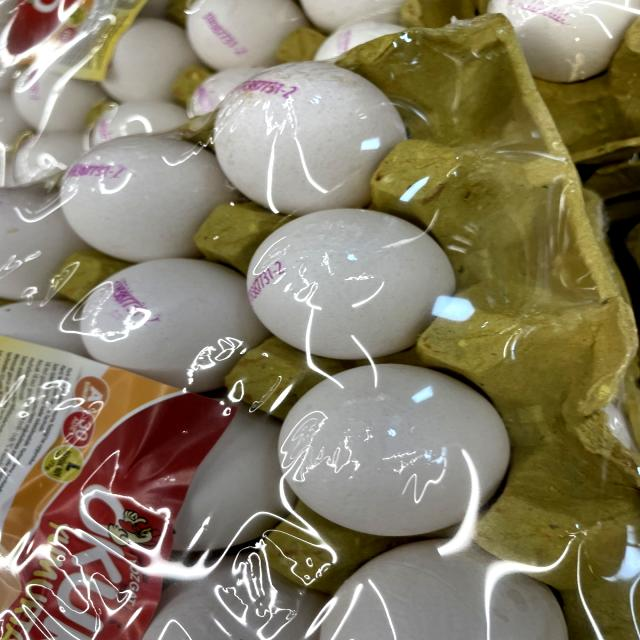egg: (228, 187, 487, 366), (272, 363, 520, 538), (206, 63, 422, 212)
